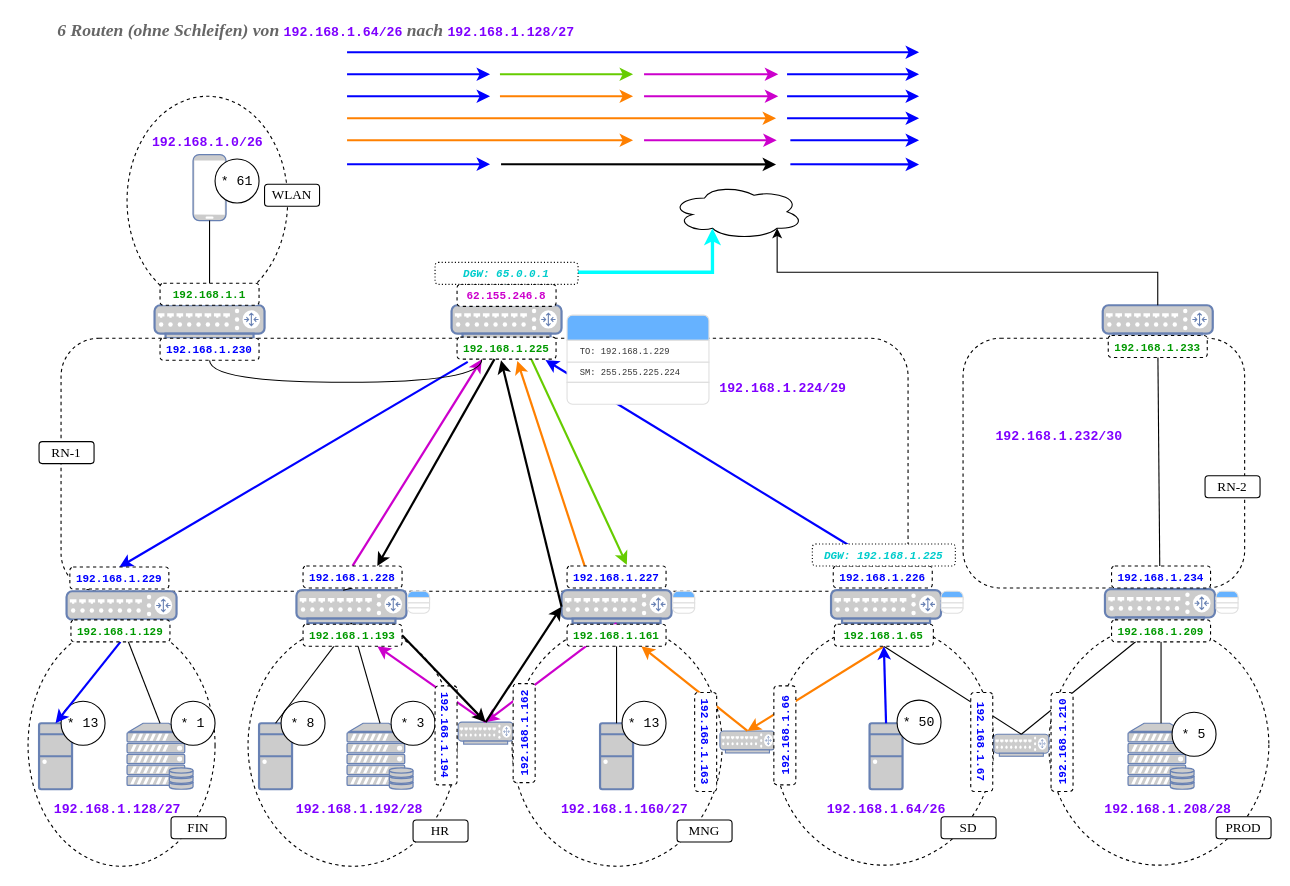
Some shapes in this 1290 by 886 pixel diagram are drawn without their labels. The shapes that lost their labels are listed below. From the top down, each one's box as (x1, y1, x2, y2) in pixels, then its label:
(670, 183, 804, 239): Internet
(566, 314, 709, 340): Route-TO-MNG
(566, 381, 709, 404): NA: 192.168.1.128/27
